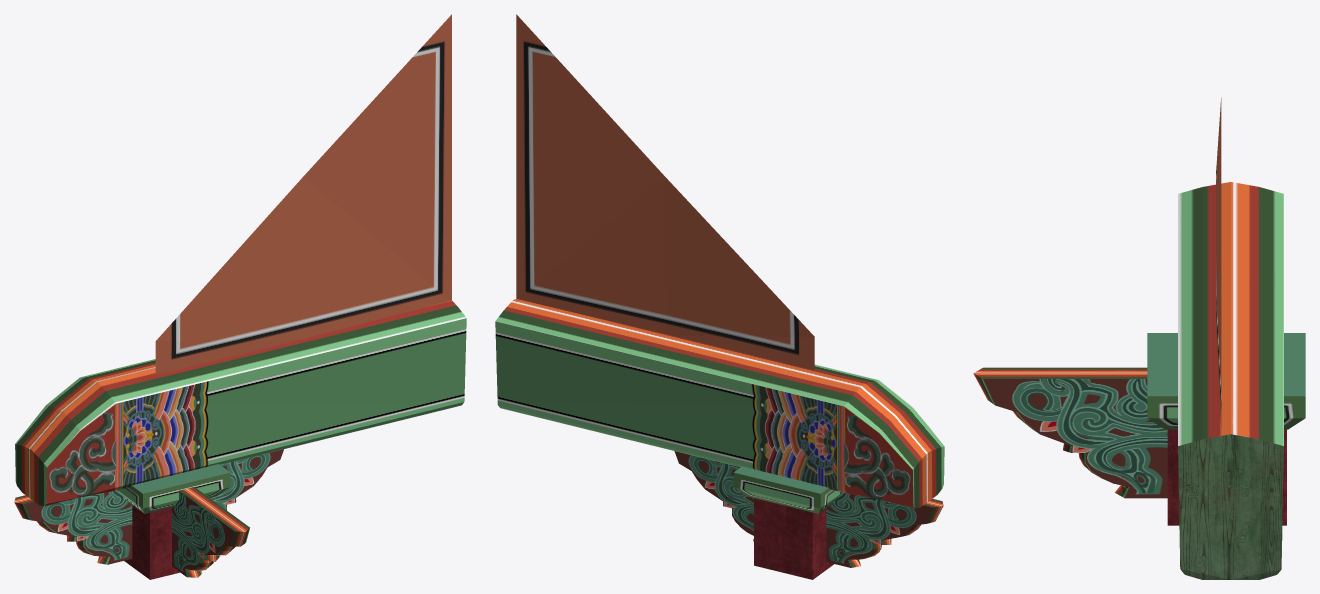
File: SM_R_Beam_29.fbx
3 views of the same model, side by side, from view 1: azimuth 30°, elevation 25°; view 2: azimuth 150°, elevation 25°; view 3: azimuth 270°, elevation 25° (orthographic). The views are drawn at different scales.
Visible parts, largest first — view 1: SM_R_Beam_29; view 2: SM_R_Beam_29; view 3: SM_R_Beam_29.
Boxes of the visible parts, left/top/right/bottom form: SM_R_Beam_29: left=14, top=14, right=466, bottom=579; SM_R_Beam_29: left=495, top=14, right=944, bottom=579; SM_R_Beam_29: left=973, top=97, right=1305, bottom=579.
Bounding box in the file's own units: 217 × 97.6 × 227.
Materials: 4 (4 with a texture image).
